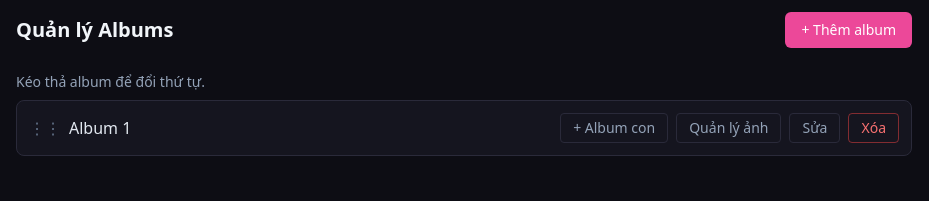
Test: AdminAlbums - error handling via the shared api instance › routes reads/writes through the shared api instance (so the refresh interceptor applies) and surfaces a failed delete instead of failing silently
Click the button "Xóa".
click(874, 128)  # box top-left (848, 113), bottom-right (899, 143)
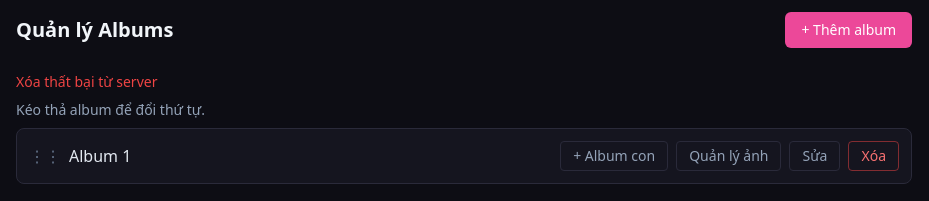
Expected: the text "Xóa thất bại từ server" is shown, top-left (16, 72), bottom-right (158, 91)
